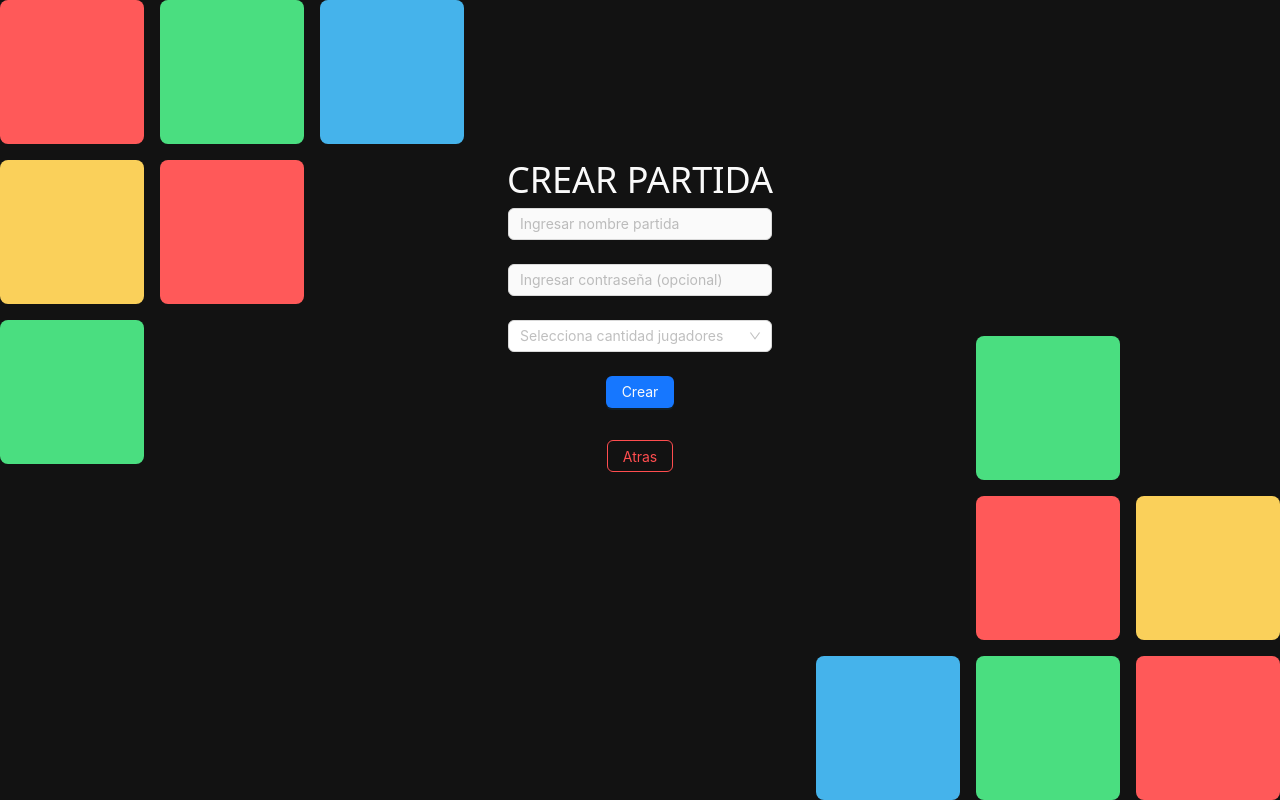
it: CreateGame › should display error when game name is missing
Step 1. Click the button "Crear" → [640, 392], box [606,376,674,408]
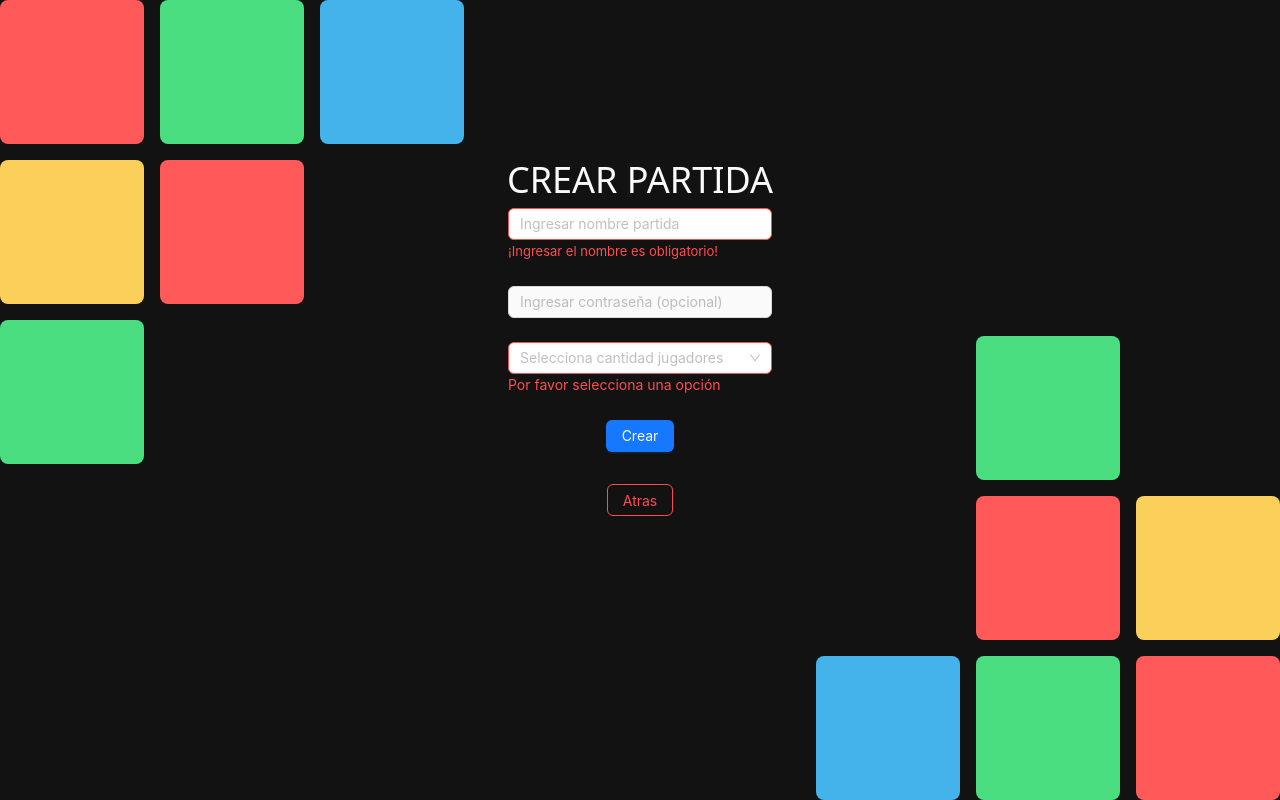
Check: the text "¡Ingresar el nombre es obligatorio!" is shown, box [508,243,718,259]
